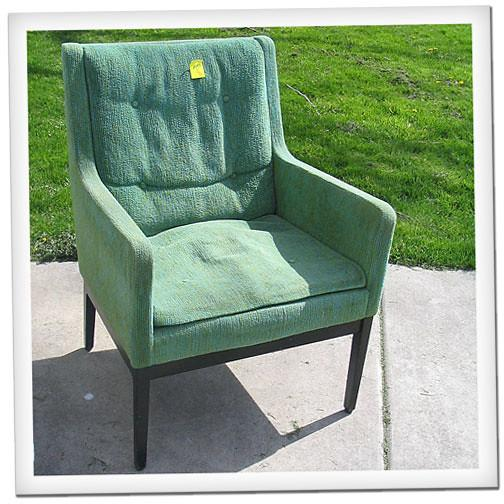chair: (61, 35, 398, 471)
